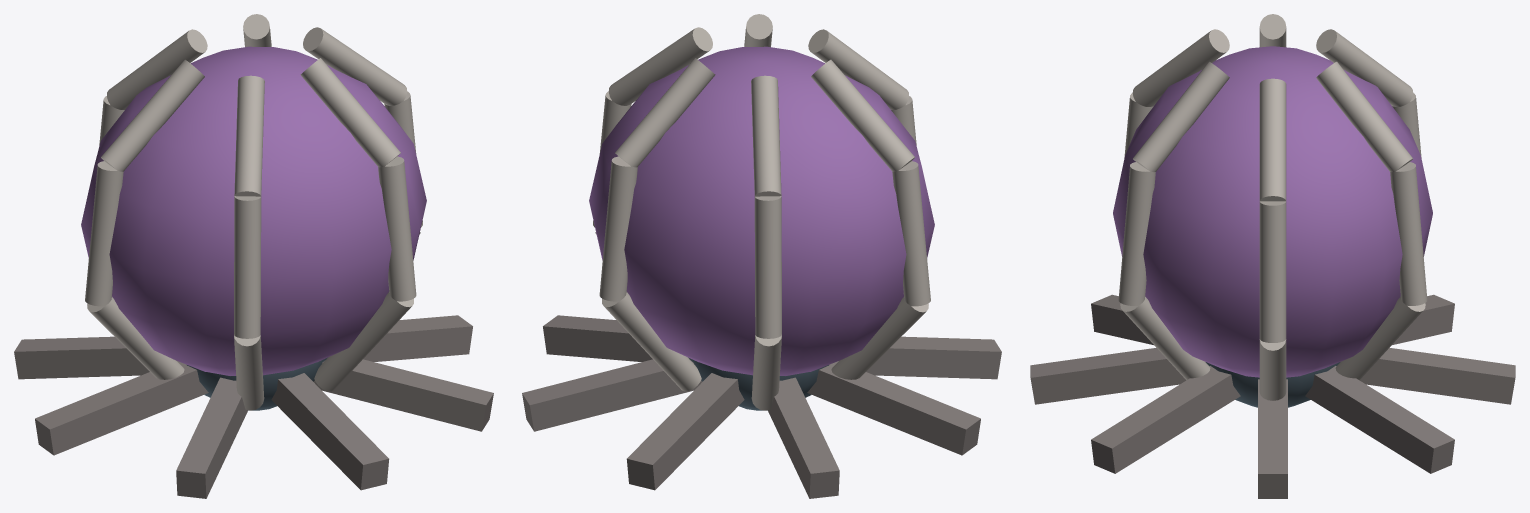
File: CMU3DHiveCMU14PathogenRecoveryNodeConstructionNode.glb
3 renders of one model, left to right at view 1: azimuth 30°, elevation 25°; view 2: azimuth 150°, elevation 25°; view 3: azimuth 270°, elevation 25°, orthographic.
Parts seen in each view (by area): view 1: central nutrient pod, curved pod cage rib (×13), anchoring root (×6), construction bud; view 2: central nutrient pod, curved pod cage rib (×13), anchoring root (×6), construction bud; view 3: central nutrient pod, curved pod cage rib (×14), anchoring root (×7), construction bud.
Boxes of the visible parts, x1,y1,x2,y2 form: central nutrient pod: (81, 46, 426, 375); curved pod cage rib (×13): (85, 14, 422, 410); anchoring root (×6): (14, 315, 493, 498); construction bud: (187, 357, 327, 410); central nutrient pod: (589, 46, 934, 375); curved pod cage rib (×13): (593, 14, 930, 410); anchoring root (×6): (522, 315, 1001, 498); construction bud: (688, 357, 828, 410); central nutrient pod: (1113, 46, 1432, 377); curved pod cage rib (×14): (1118, 14, 1427, 400); anchoring root (×7): (1030, 294, 1515, 498); construction bud: (1205, 362, 1340, 407).
Bounding box in the file's own units: 0.9085 × 0.735 × 0.9085.
